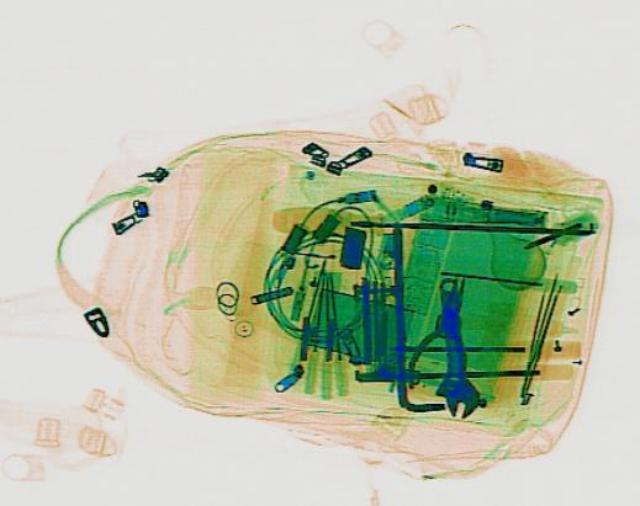Wrench: (427, 274, 479, 417)
